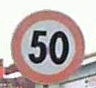limite 50: (9, 10, 86, 82)
